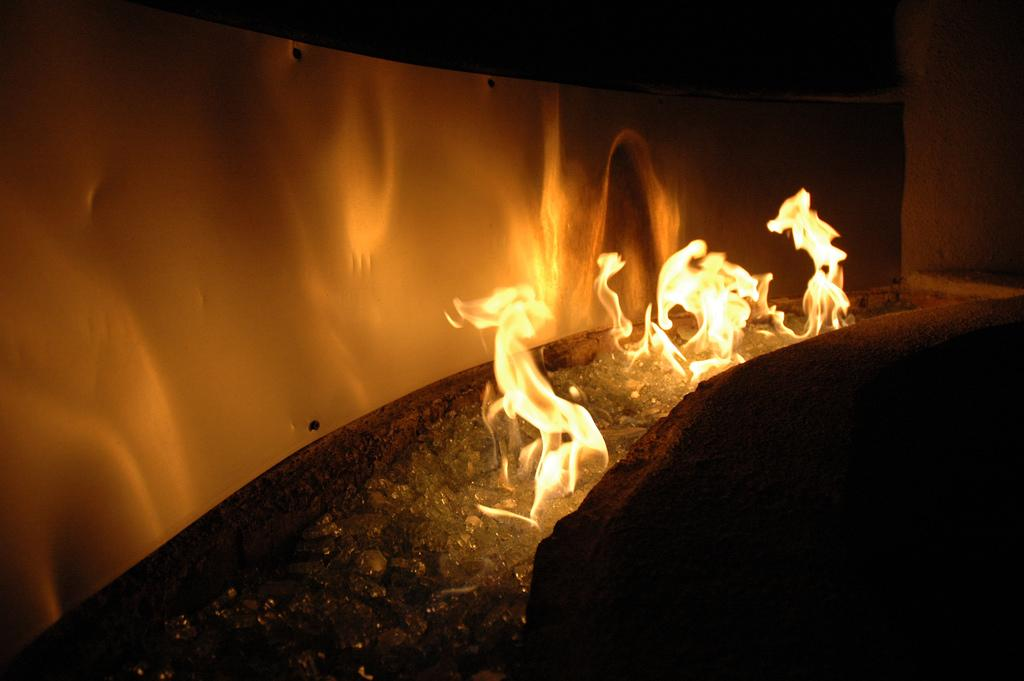fire: (510, 380, 587, 482), (675, 257, 752, 357), (797, 198, 850, 318)
